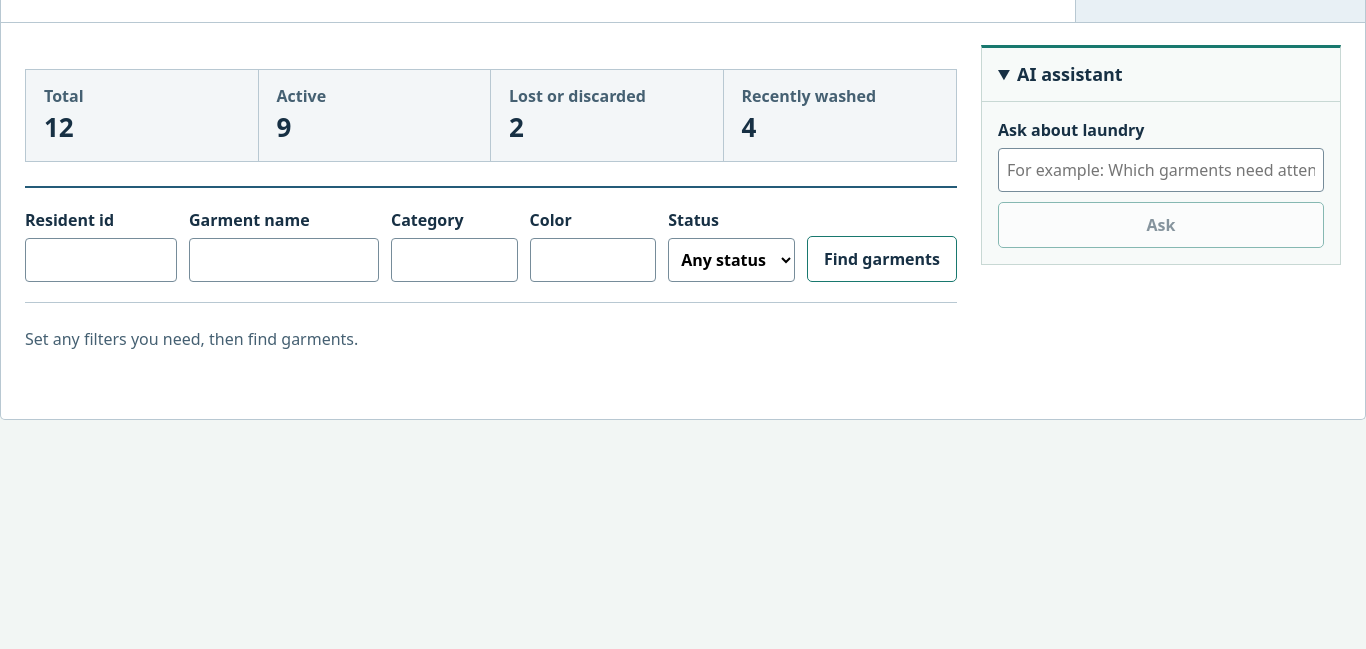
Test: shows all twenty API-bounded results and asks for narrower filters
Expected: the text "12" is shown, [44,109,74,145]
Click the button "Find garments": [882, 259] box [807,236,957,282]
(page scrolled)
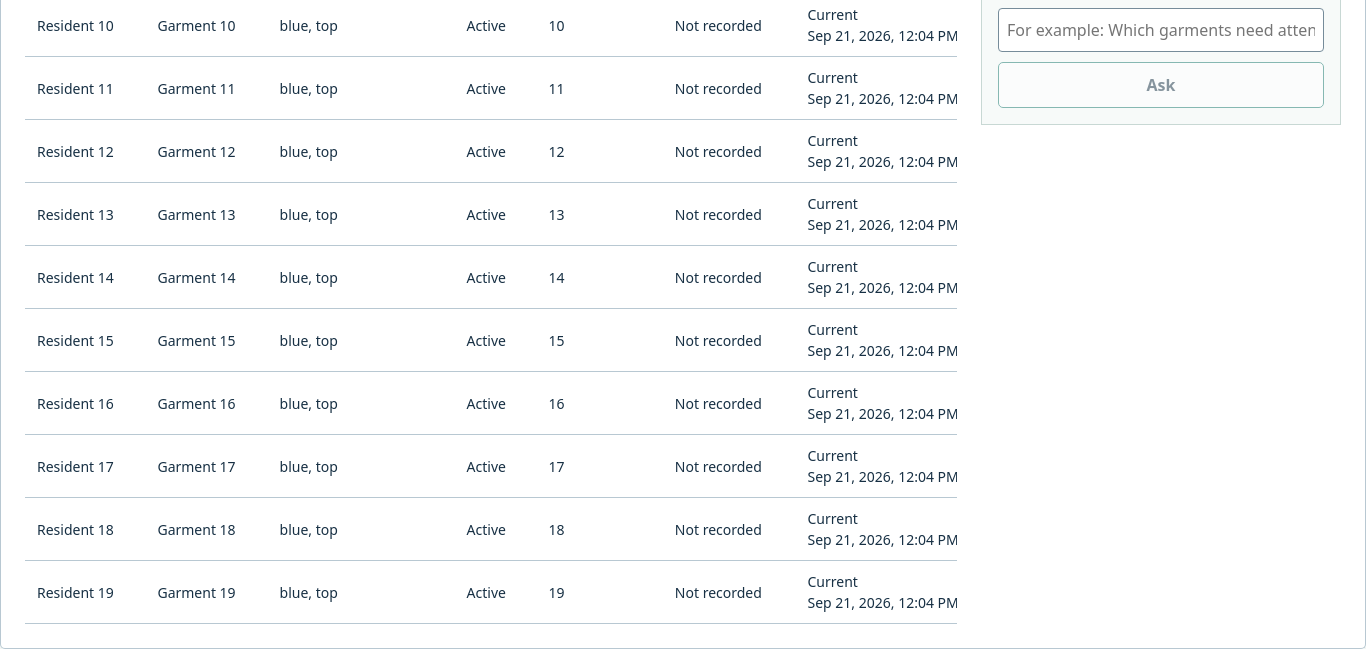
Result: the text "Garment 19" is shown at [145,560,268,624]
